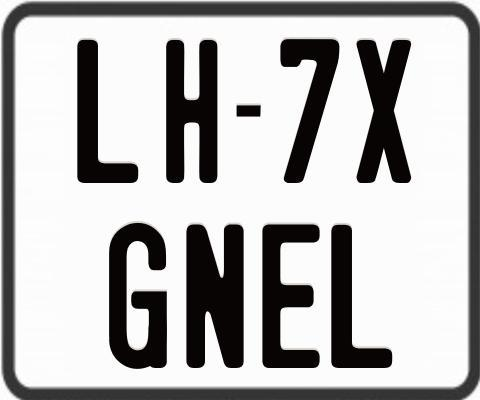7: (280, 37, 340, 181)
E: (260, 221, 323, 371)
G: (108, 222, 168, 372)
H: (164, 40, 219, 183)
L: (329, 224, 396, 372), (74, 37, 137, 183)
N: (186, 221, 250, 370)
X: (354, 39, 413, 185)
